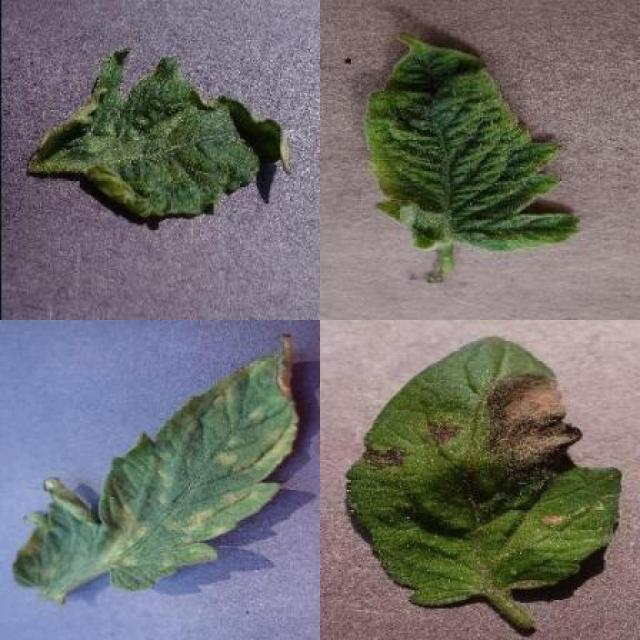Late Blight: (347, 333, 623, 608)
Leaf Mold: (11, 330, 300, 593)
Mosaic Virus: (35, 48, 291, 218)
Yellow Leaf Curl Virus: (364, 30, 582, 256)
